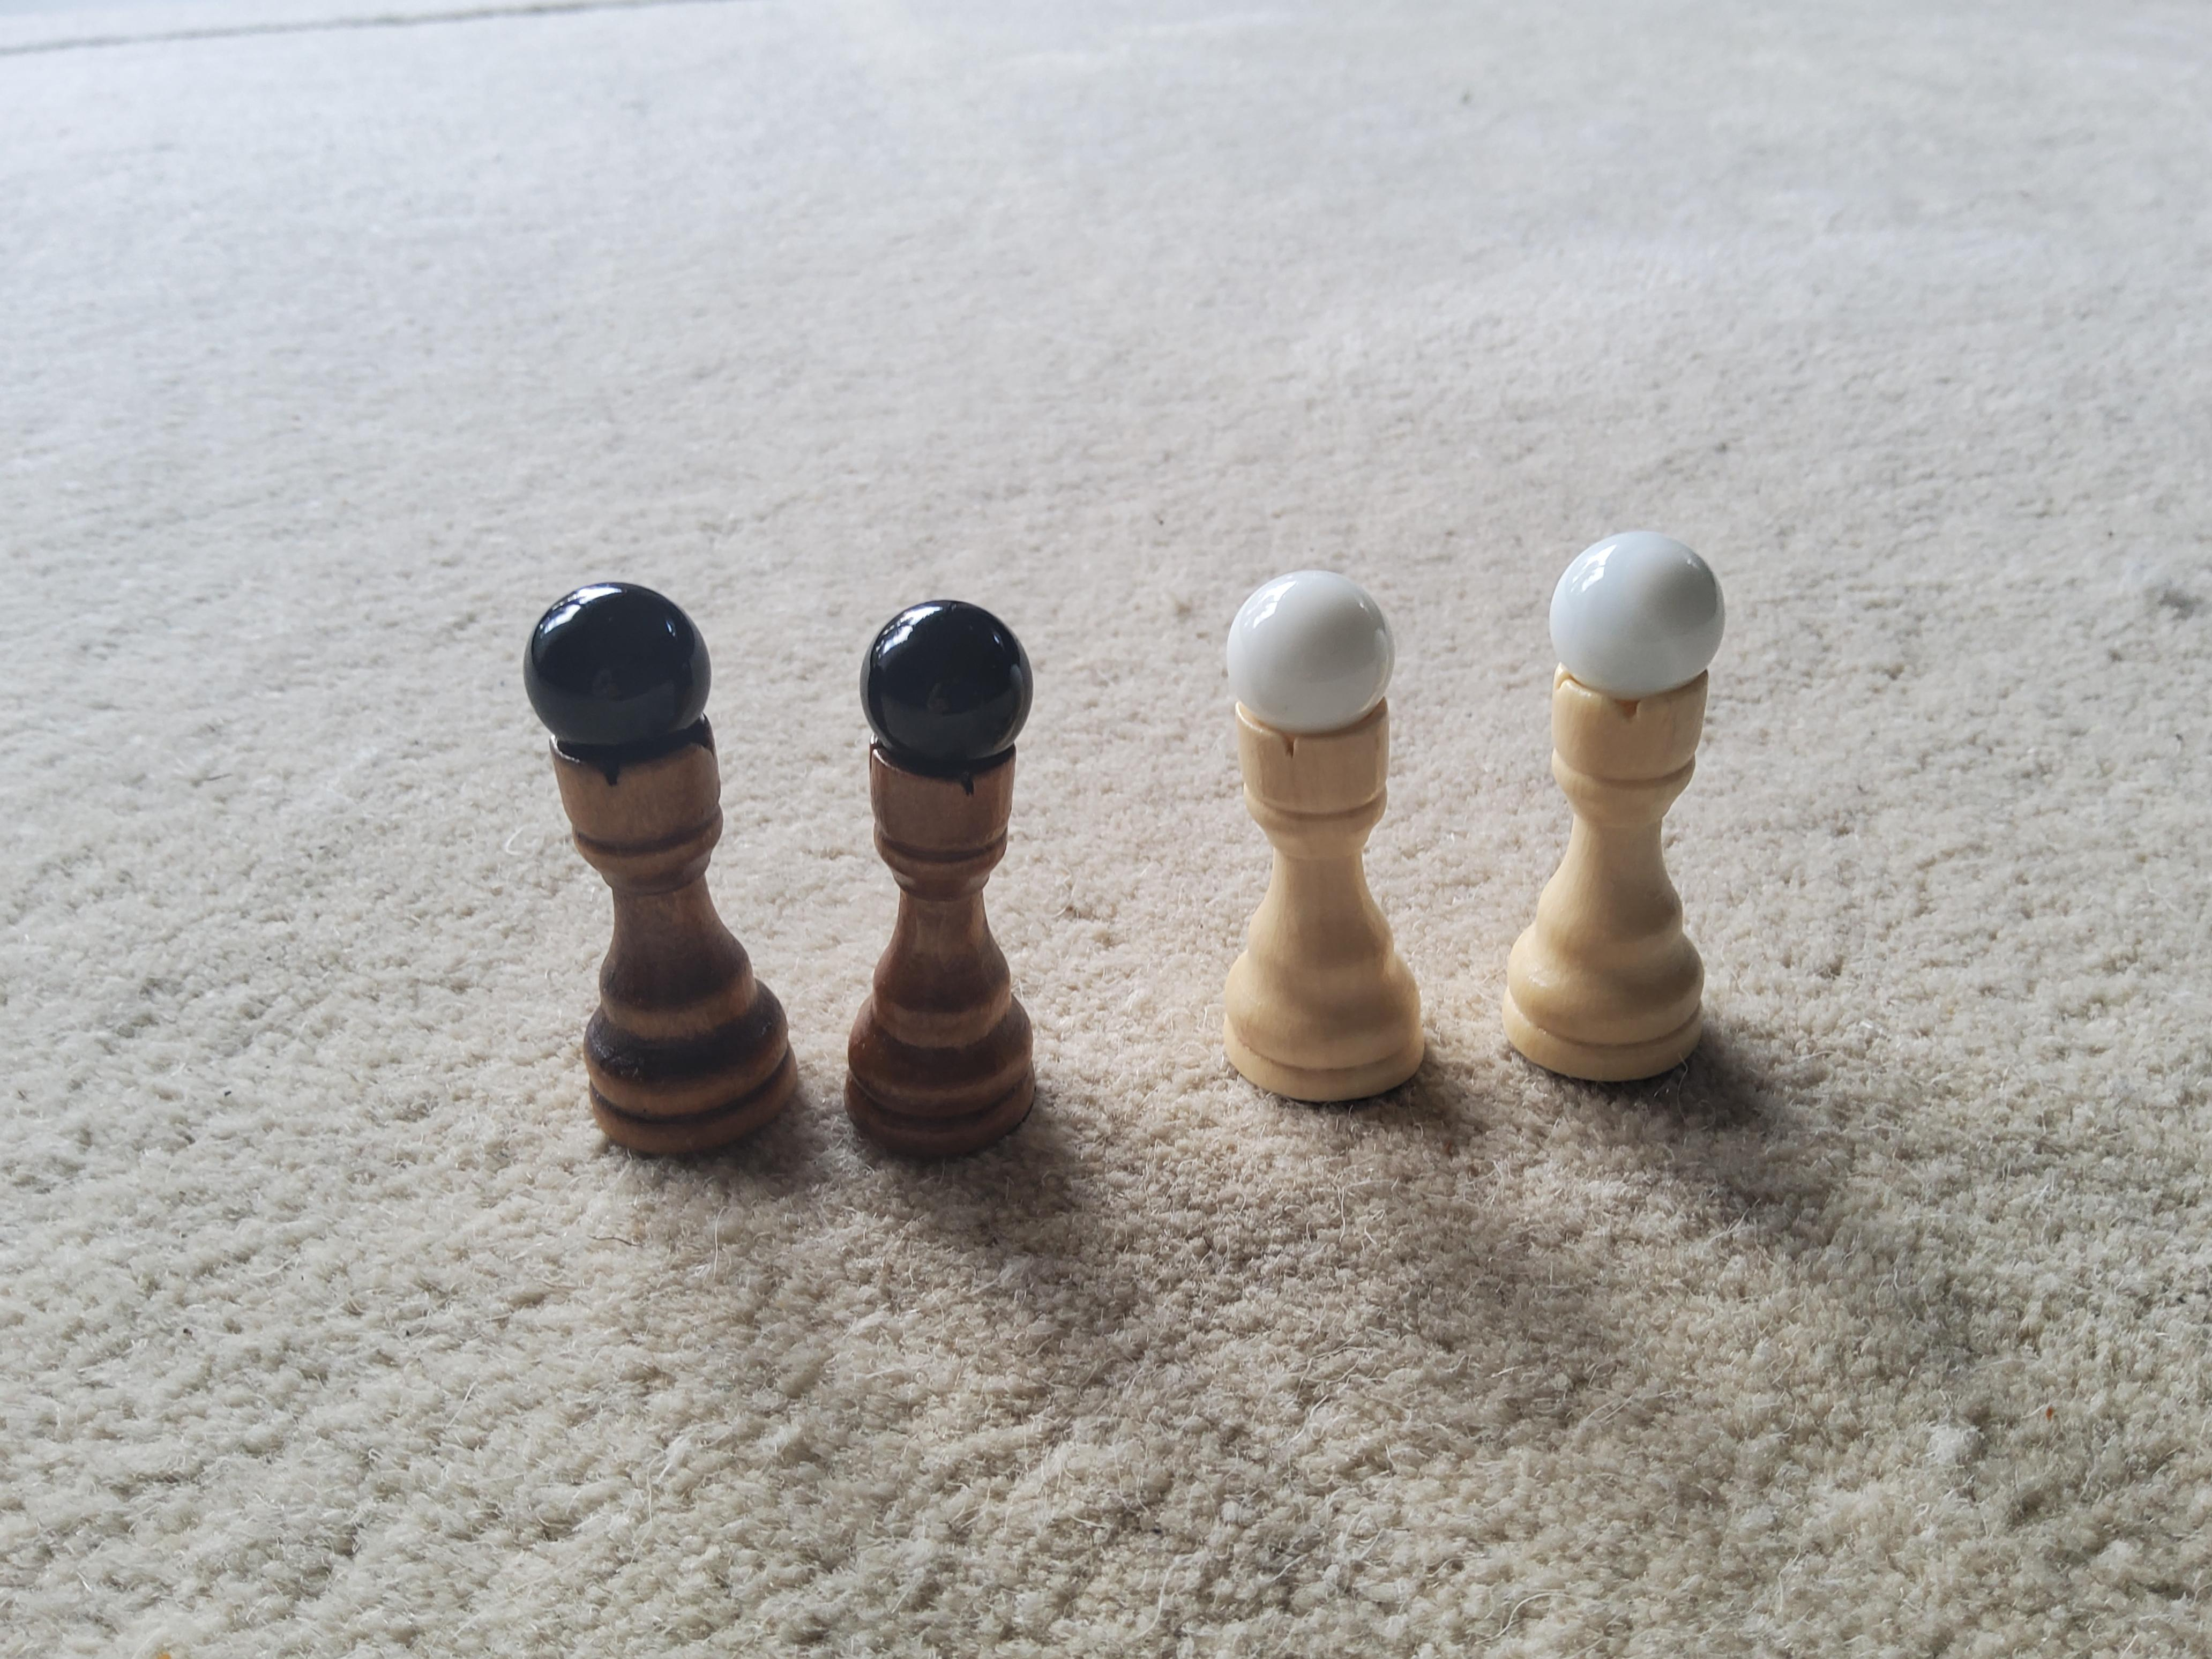pentago: (509, 573, 712, 748), (850, 594, 1042, 758), (1534, 533, 1733, 687), (1214, 570, 1390, 728)
schaak: (542, 748, 810, 1147), (1512, 688, 1714, 1087), (1214, 732, 1425, 1107), (855, 749, 1045, 1150)
